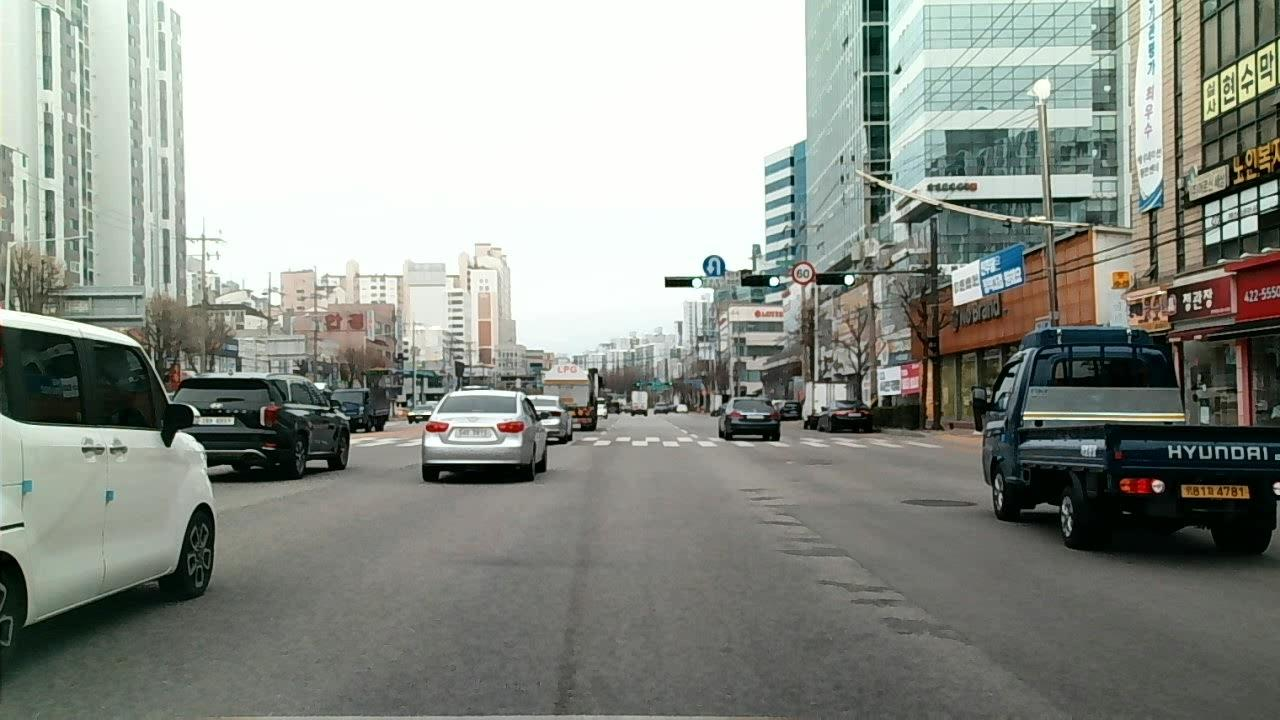banner: (553, 613, 577, 719)
